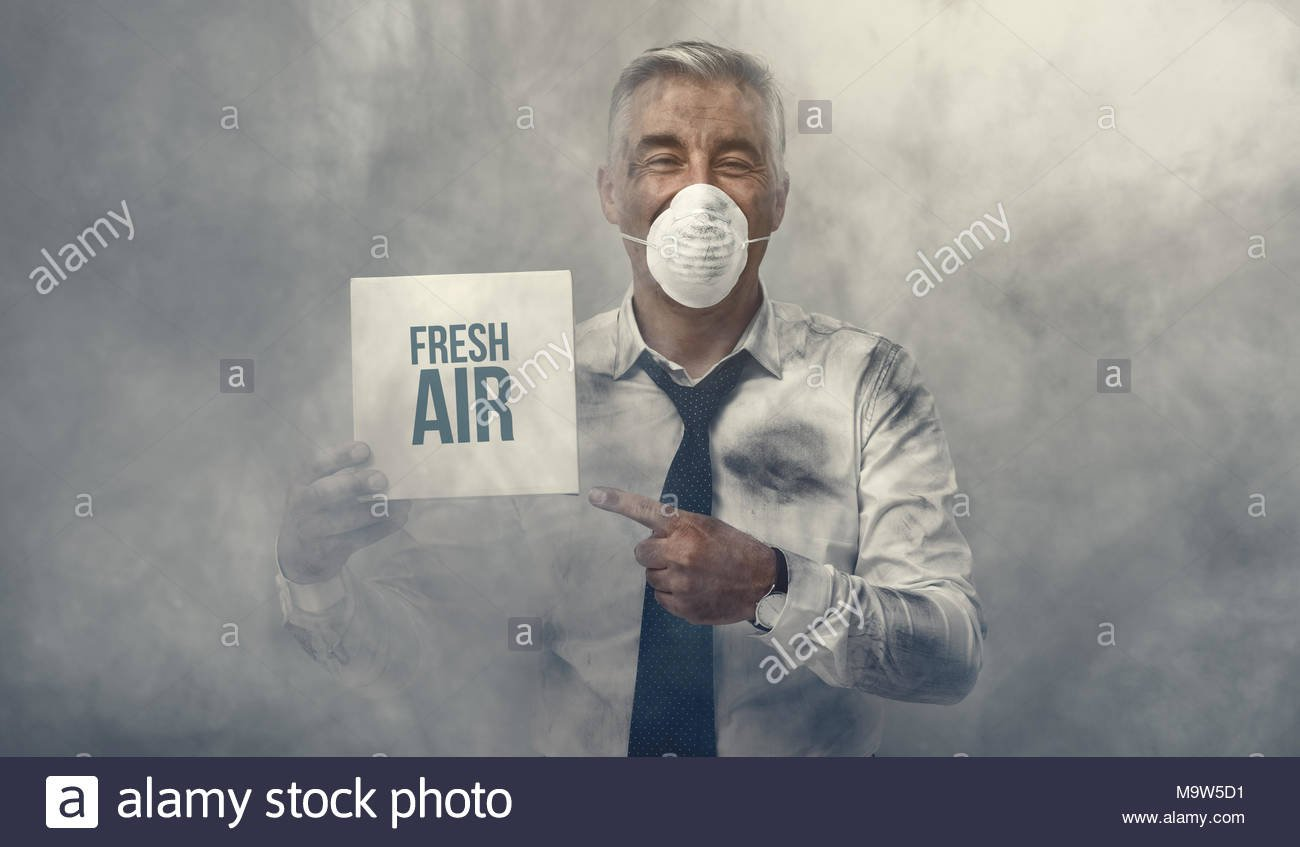mask: (585, 38, 821, 307)
